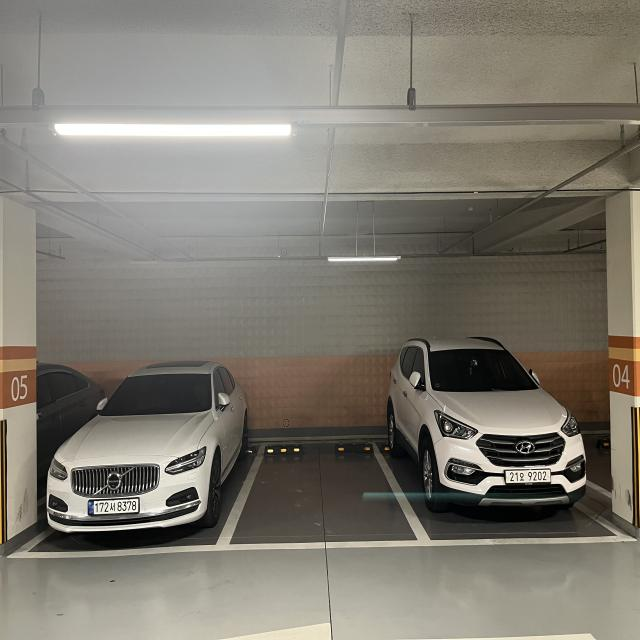empty: (207, 434, 440, 559)
occupied: (385, 325, 618, 556), (40, 354, 236, 560)
